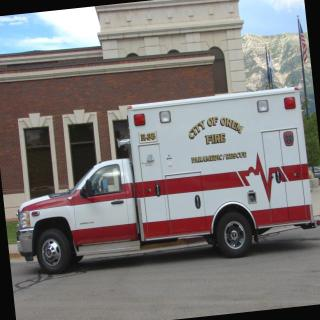Ambulance: (0, 81, 320, 307)
